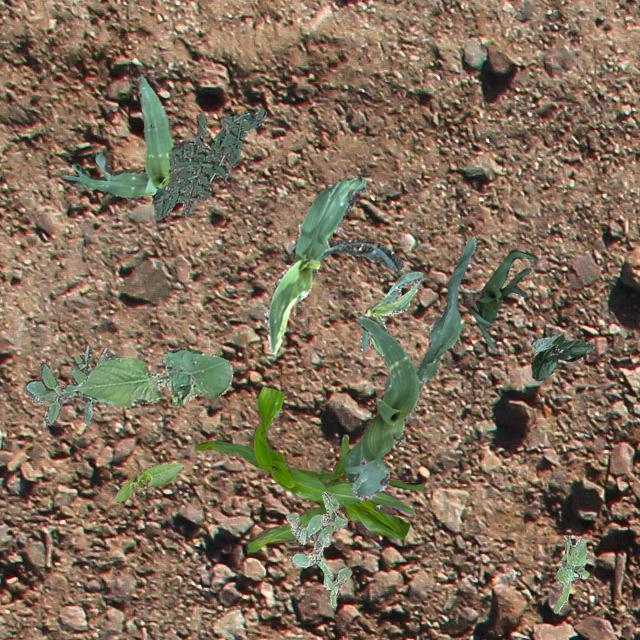crop: (194, 386, 424, 554), (344, 236, 476, 499), (264, 175, 402, 354), (64, 74, 172, 198), (72, 348, 232, 408), (468, 248, 538, 346), (358, 270, 422, 356), (530, 334, 594, 379), (112, 462, 182, 501)
weed: (152, 108, 266, 218), (286, 490, 350, 608), (22, 344, 108, 424), (552, 534, 588, 612)
